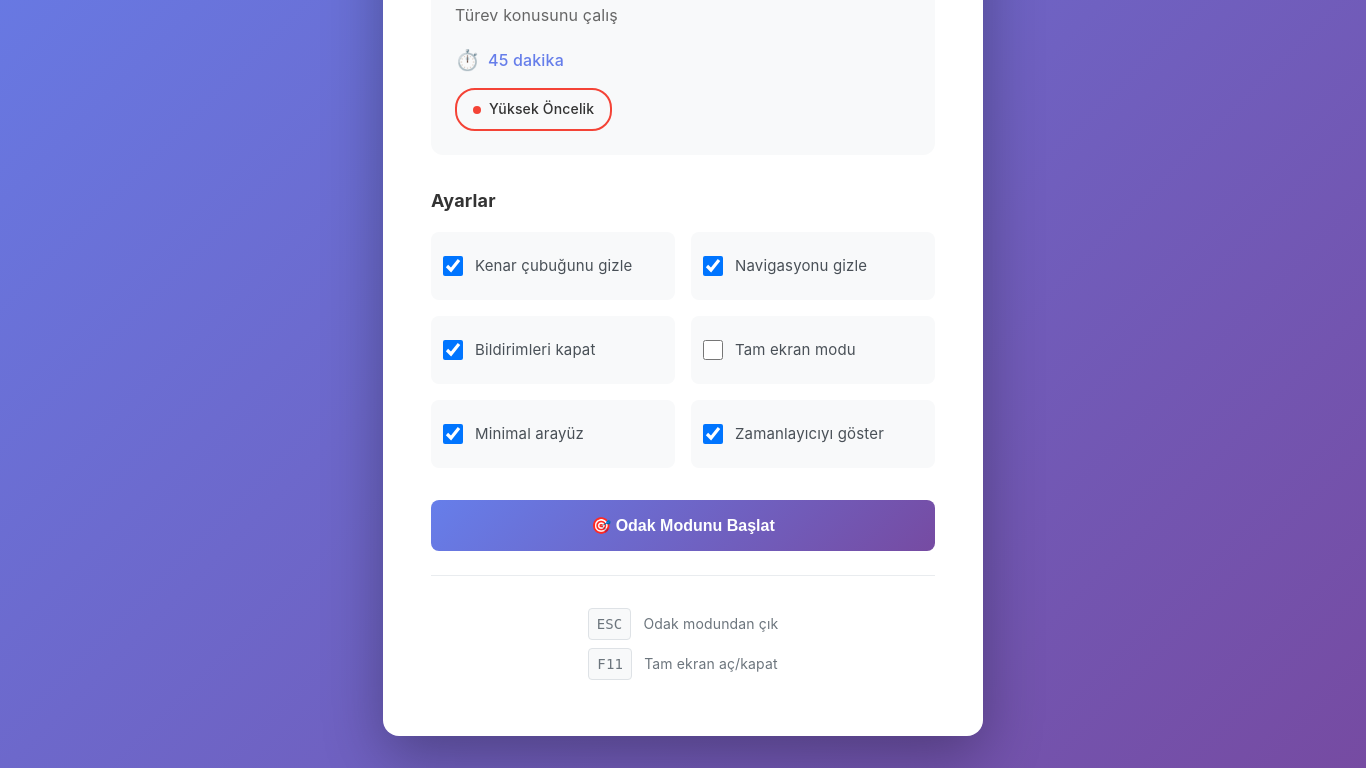
it: FocusMode Component › Active Focus Mode View › should show exit button - REQ-52.24
(page scrolled)
Click the button "🎯 Odak Modunu Başlat" at coordinates (683, 525), box [431,500,935,551]
(page scrolled)
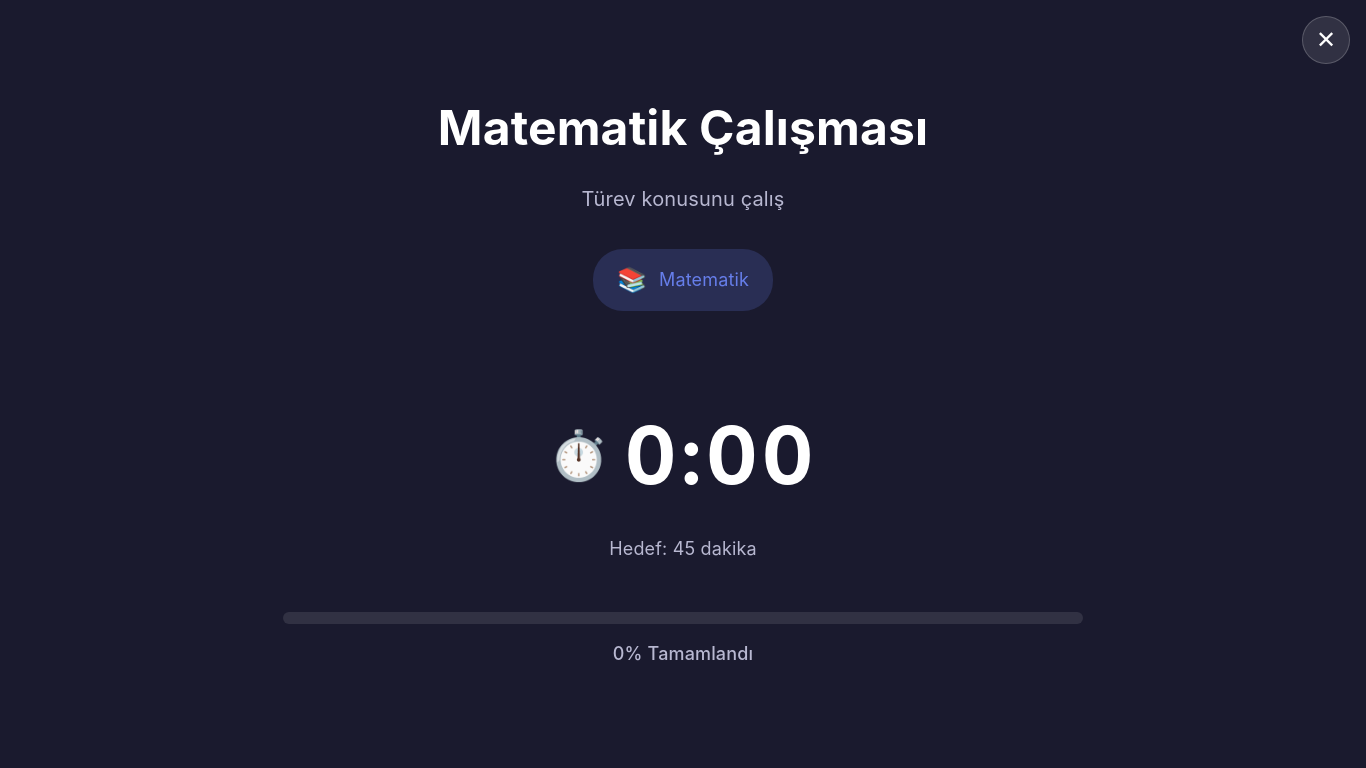
Check: the button named "Odak modundan çık" is shown, box [1302,16,1350,64]
